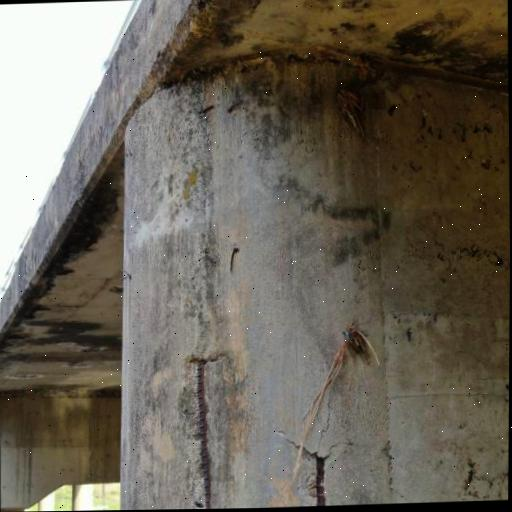exposed_rebar: (198, 361, 211, 509), (316, 456, 326, 505), (230, 247, 239, 270), (228, 102, 242, 113), (206, 254, 216, 264), (203, 106, 215, 113)
